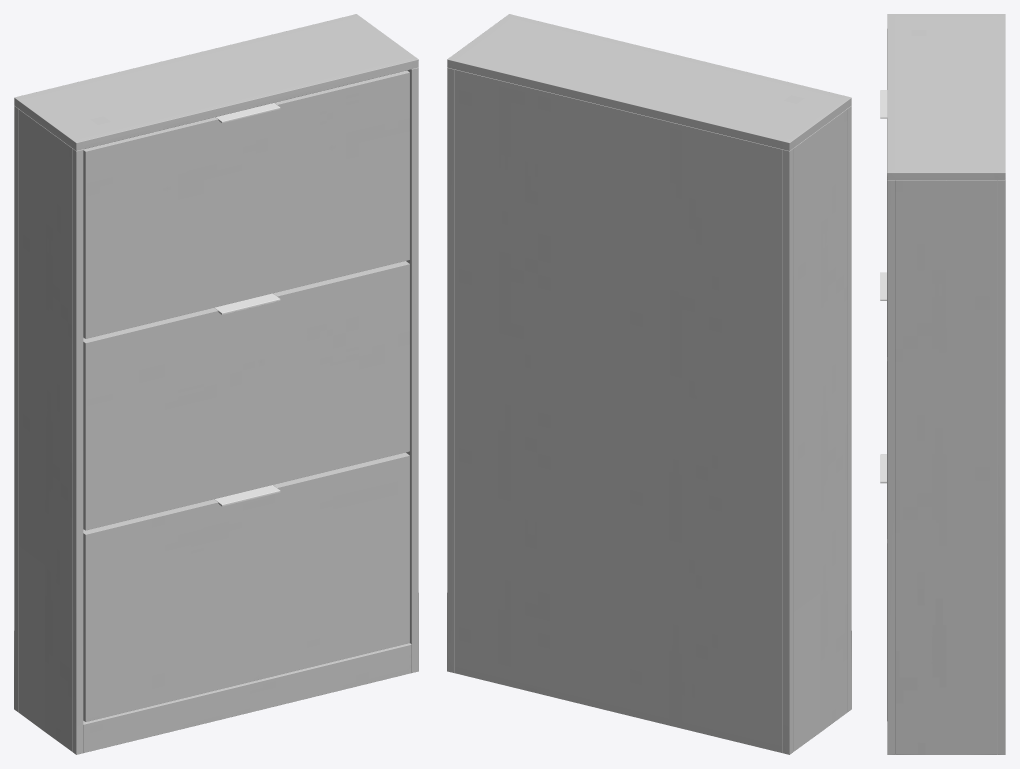
The model's file is abo-B07GFLD22Q.glb.
3 views of the same model, side by side, from view 1: azimuth 30°, elevation 25°; view 2: azimuth 150°, elevation 25°; view 3: azimuth 270°, elevation 25° (orthographic). The views are drawn at different scales.
Bounding box in the file's own units: 0.75 × 1.28 × 0.25.
1 material, 1 textured.
